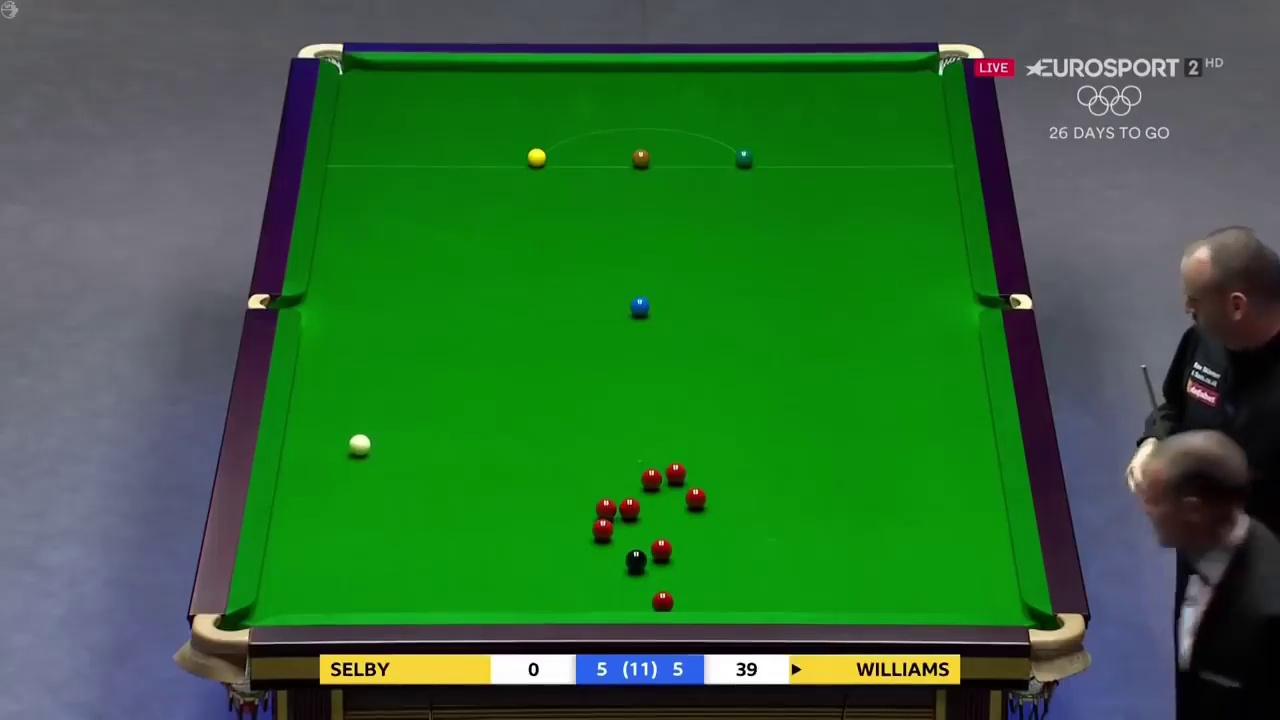black: (628, 549, 646, 575)
blue: (631, 298, 651, 317)
brown: (632, 149, 651, 165)
green: (738, 148, 754, 168)
red: (685, 488, 709, 510), (640, 470, 663, 492), (667, 461, 688, 485), (592, 520, 614, 542), (595, 499, 617, 520), (618, 499, 640, 519), (653, 593, 672, 614), (652, 538, 671, 559)
white: (347, 432, 372, 459)
yellow: (527, 147, 548, 168)
